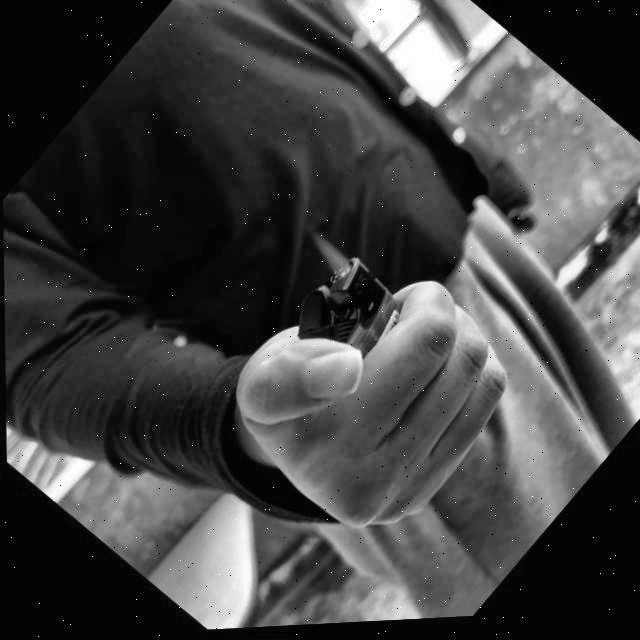Fire: (295, 222, 359, 287)
